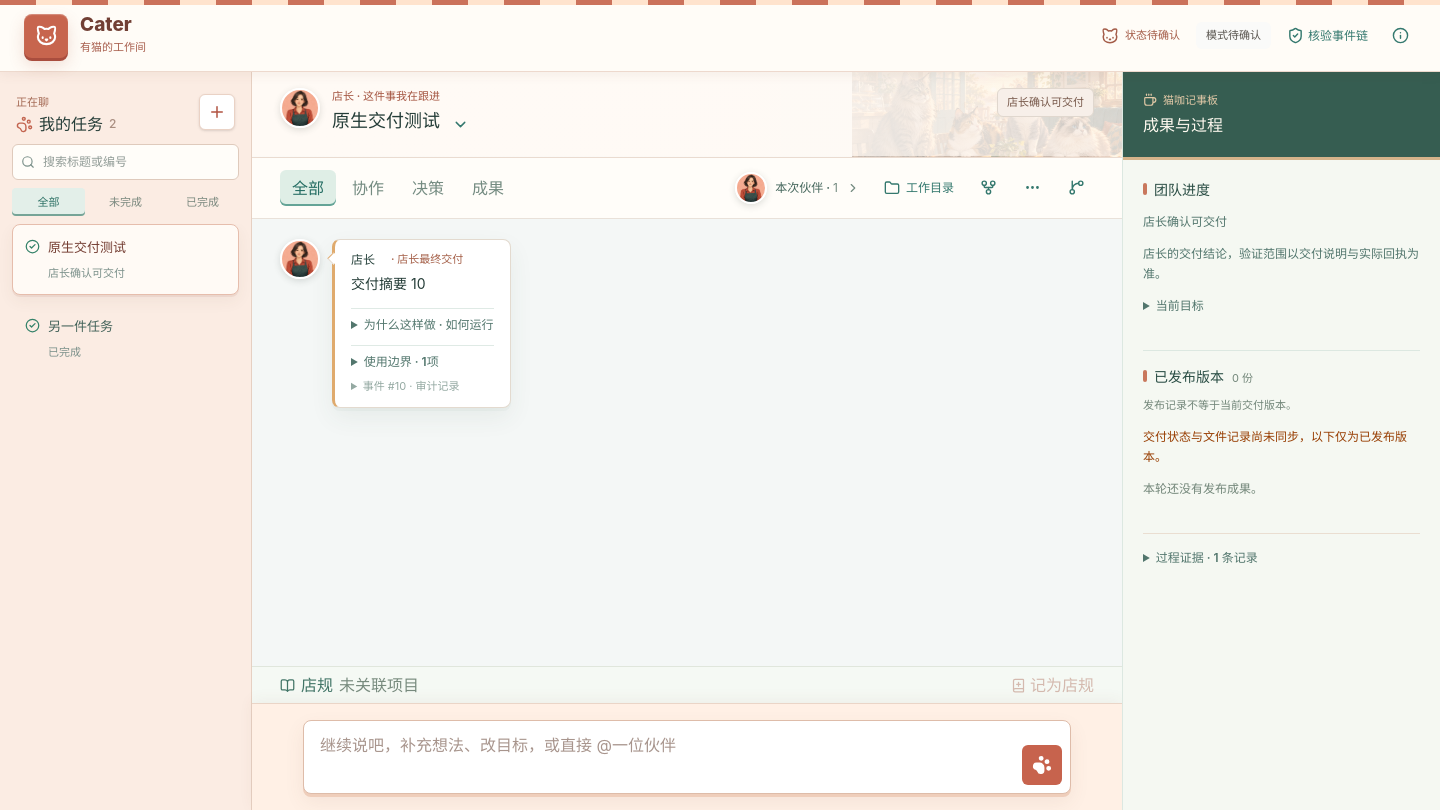
Test: 切换任务清除展开状态，同序号交付不会串用说明
The width and height of the screenshot is (1440, 810).
Expected: the element "团队进度" is shown, [1143,180,1420,330]
What coordinates should you click on to do the following:
click the heading "为什么这样做 · 如何运行"
I would click on:
 (422, 325)
Its box is [351,317,494,333].
(page scrolled)
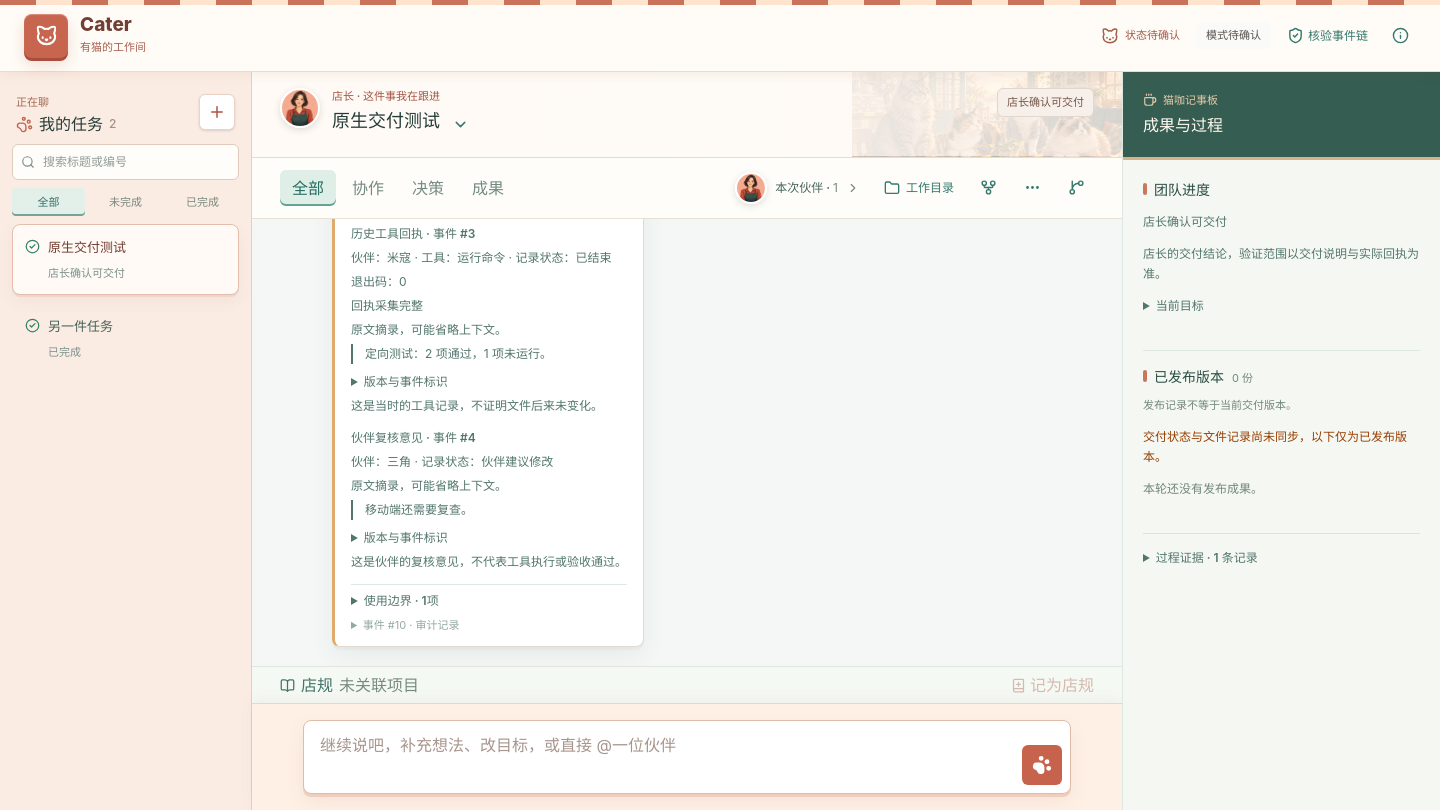
What coordinates should you click on to do the following:
click the heading "使用边界 · 1项"
I would click on:
 (401, 600)
Its box is [364,593,439,608].
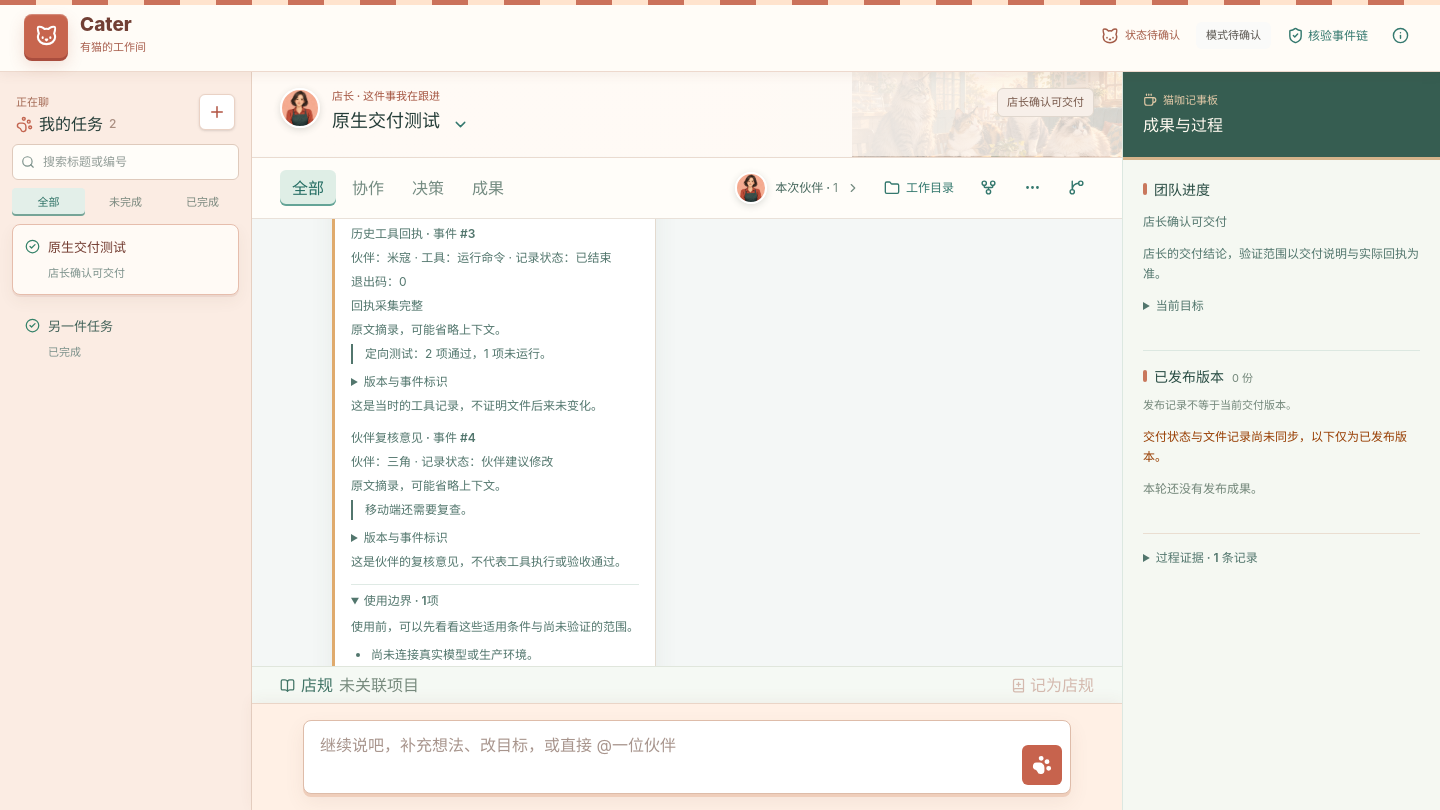
What coordinates should you click on to do the following:
click the button "另一件任务 已完成"
I would click on:
 (126, 338)
Its box is [12,302,239,373].
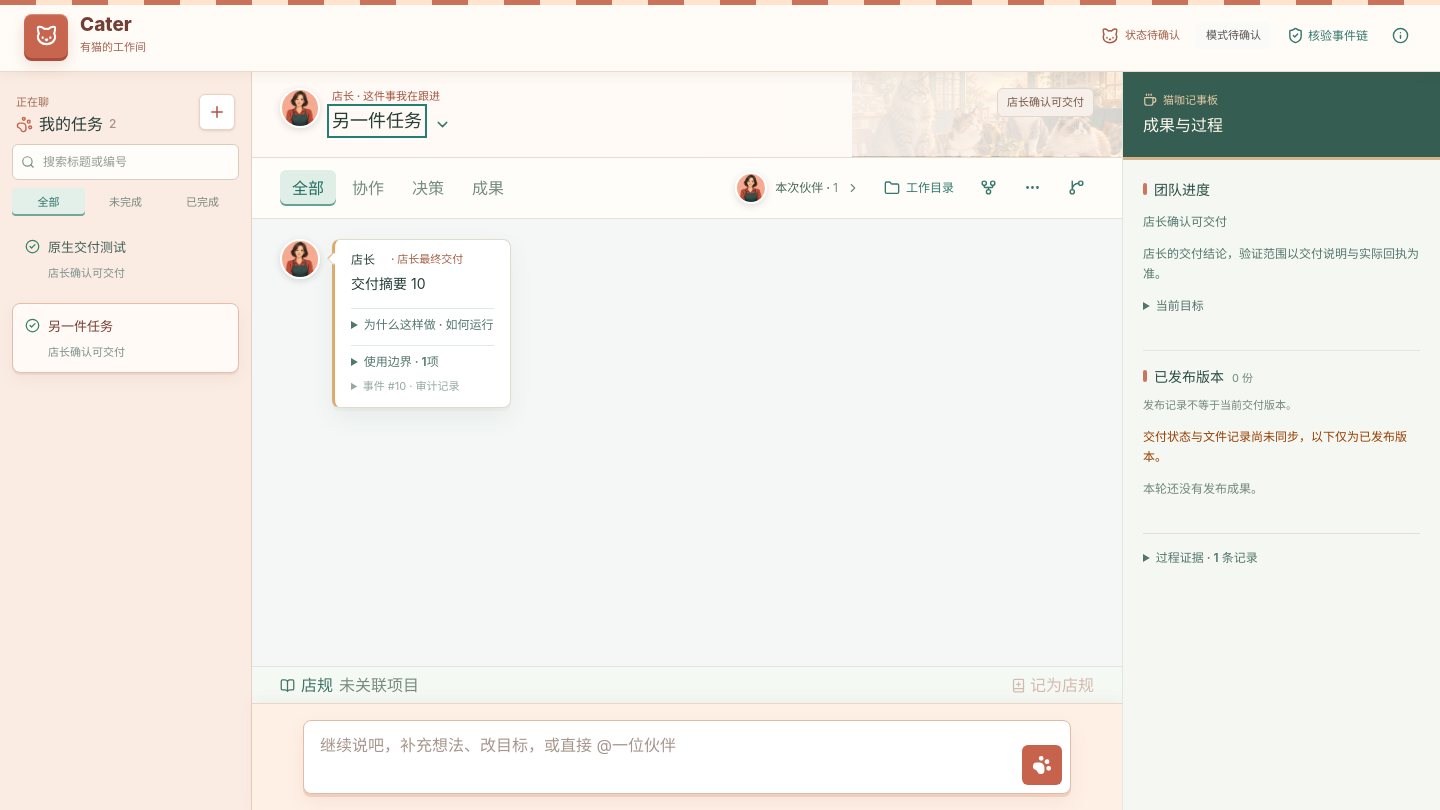
Expected: the list item "尚未连接真实模型或生产环境。" is gone
What coordinates should you click on to do the following:
click the heading "使用边界 · 1项"
I would click on:
 (401, 362)
Its box is [364,354,439,369].
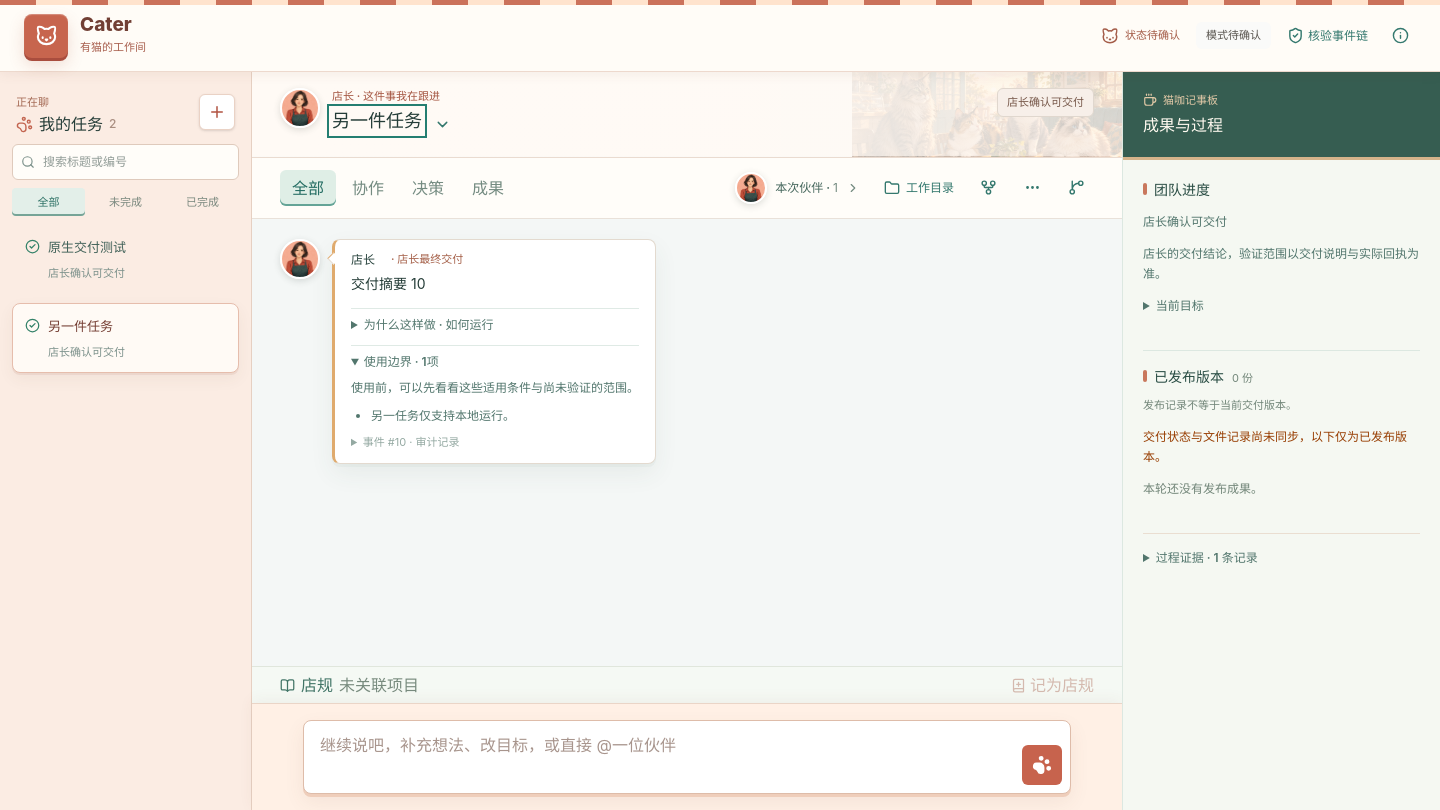
What coordinates should you click on to do the following:
click the button "原生交付测试 店长确认可交付"
I would click on:
 (126, 259)
Its box is [12,224,239,294].
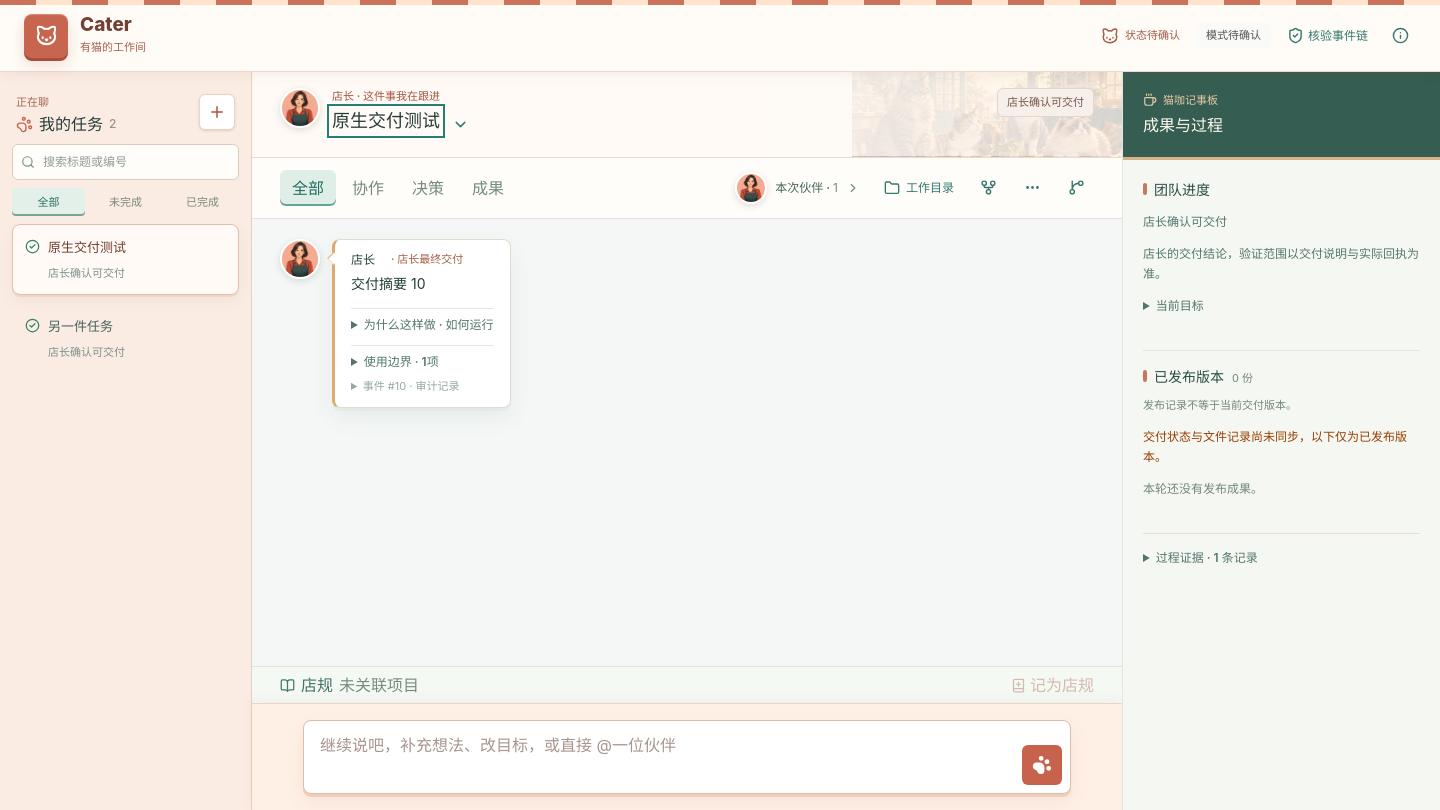
Expected: the list item "另一任务仅支持本地运行。" is gone
